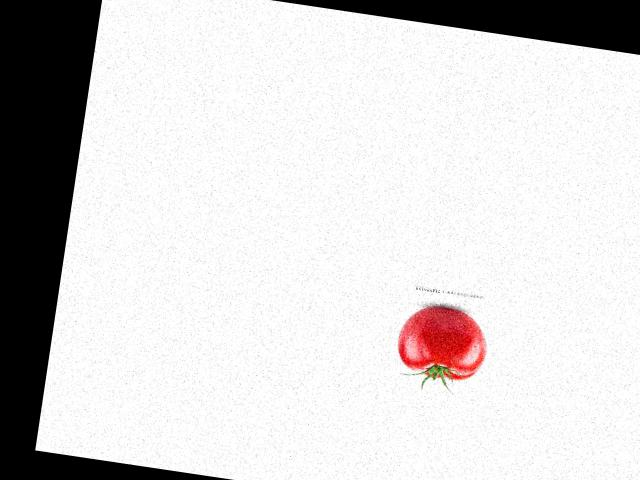tomato: (393, 302, 491, 383)
